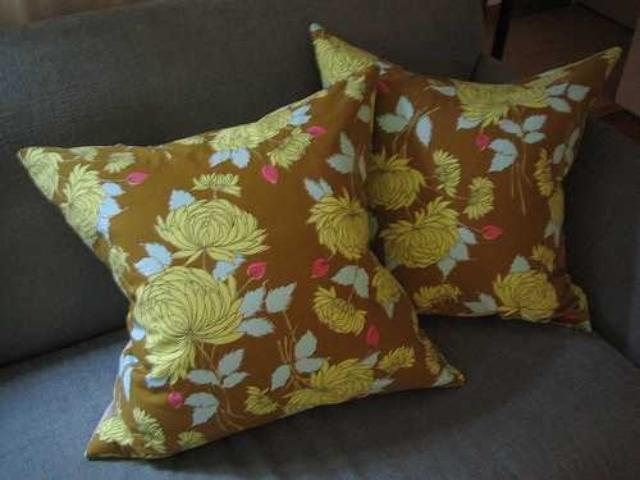pillow: (15, 67, 468, 461), (306, 22, 624, 332)
